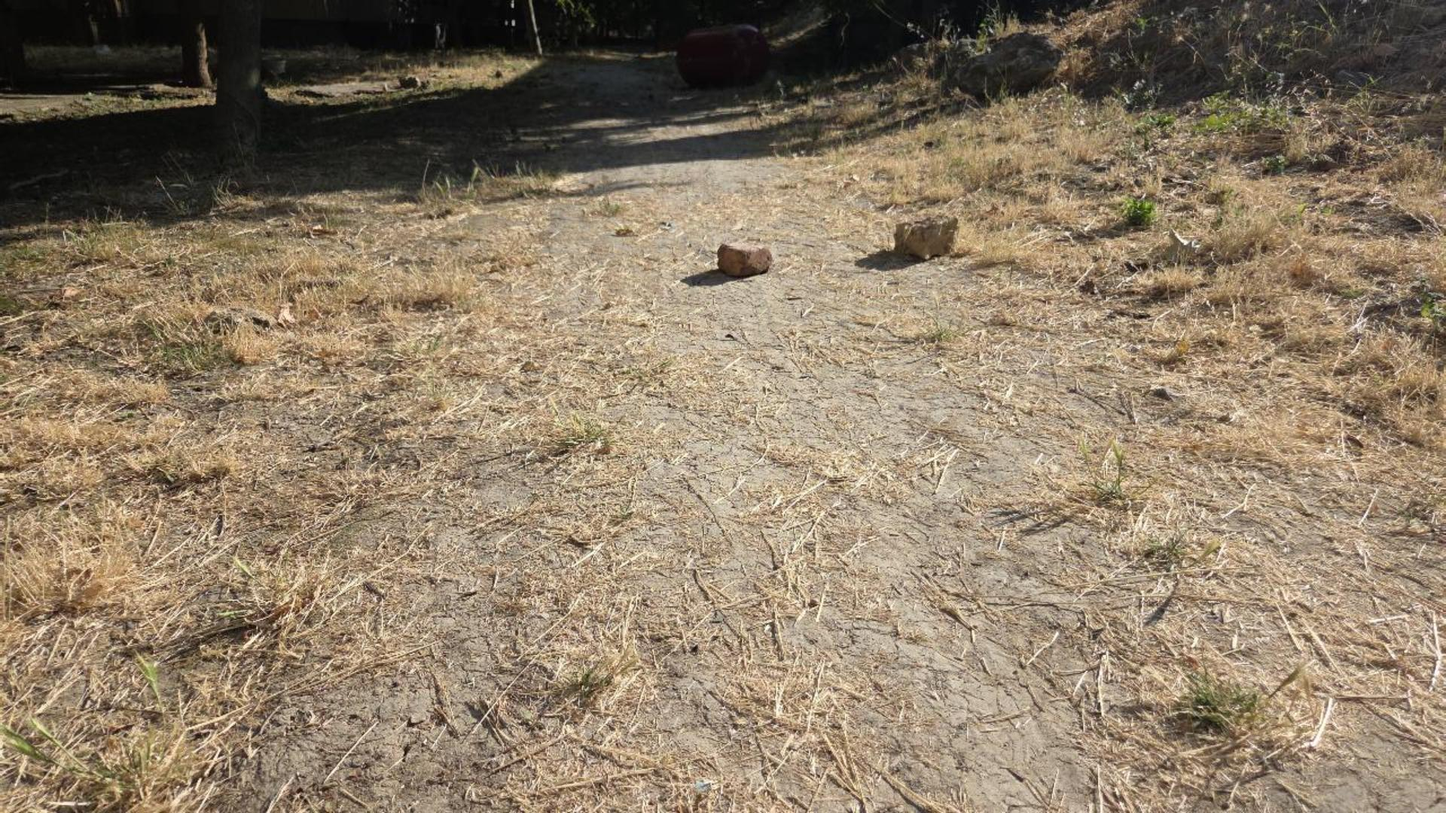rock: (955, 32, 1062, 96), (894, 217, 957, 259), (717, 242, 772, 277)
